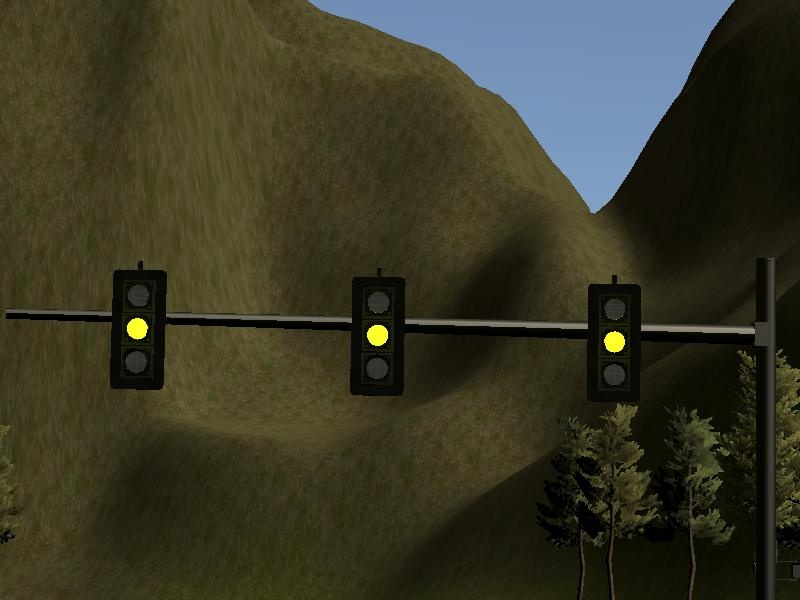YELLOW: (584, 280, 644, 403), (346, 272, 406, 395), (108, 265, 168, 388)
